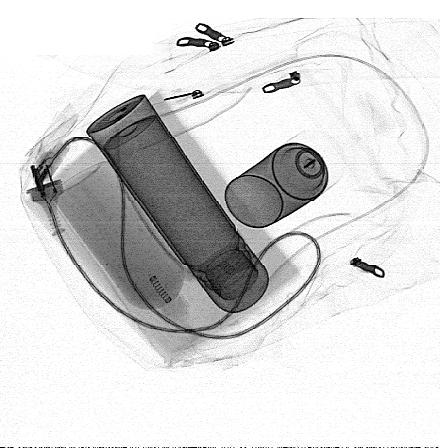Sprayer: (226, 131, 344, 227)
